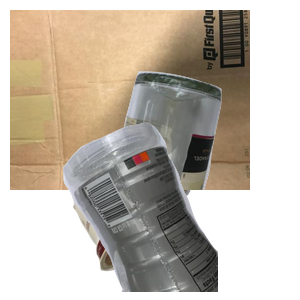cardboard: (10, 10, 250, 190)
glass: (109, 69, 300, 249)
plastic: (60, 120, 300, 300)
trash: (70, 149, 254, 300)
